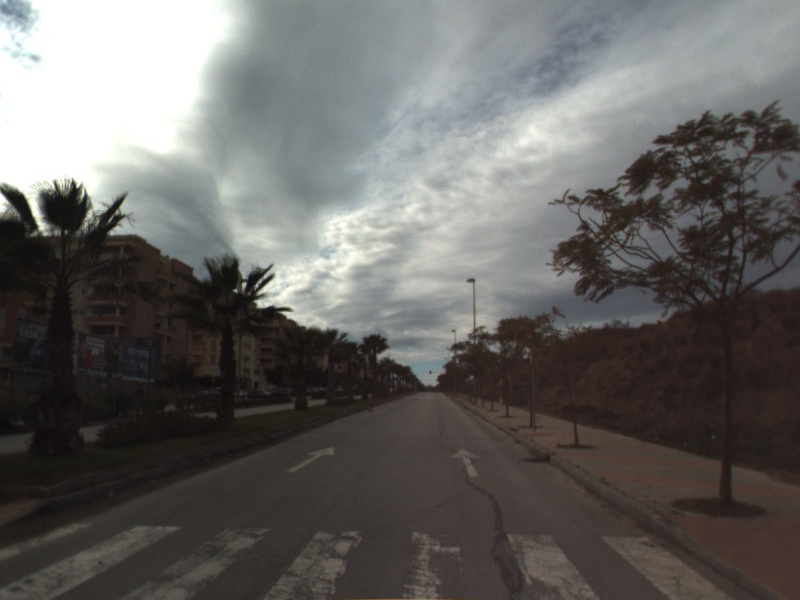STRAIGHT: (285, 444, 336, 474), (448, 446, 485, 479)
